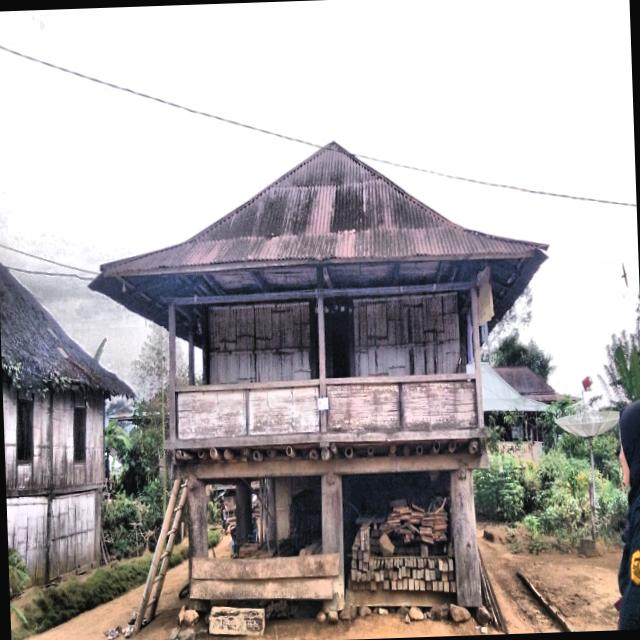column: (450, 468, 482, 606), (321, 472, 344, 611), (186, 476, 207, 576)
ornamen: (402, 379, 477, 431), (325, 381, 400, 432), (248, 385, 320, 435), (178, 388, 246, 439)
roof: (90, 142, 546, 325), (0, 263, 133, 397), (481, 363, 546, 411), (493, 365, 562, 402)
stair: (133, 479, 186, 632)
wall: (353, 293, 459, 376), (209, 302, 310, 383), (2, 388, 50, 490), (52, 391, 103, 487), (6, 495, 47, 590), (51, 491, 94, 579)
window: (16, 397, 33, 460), (73, 404, 86, 462)
